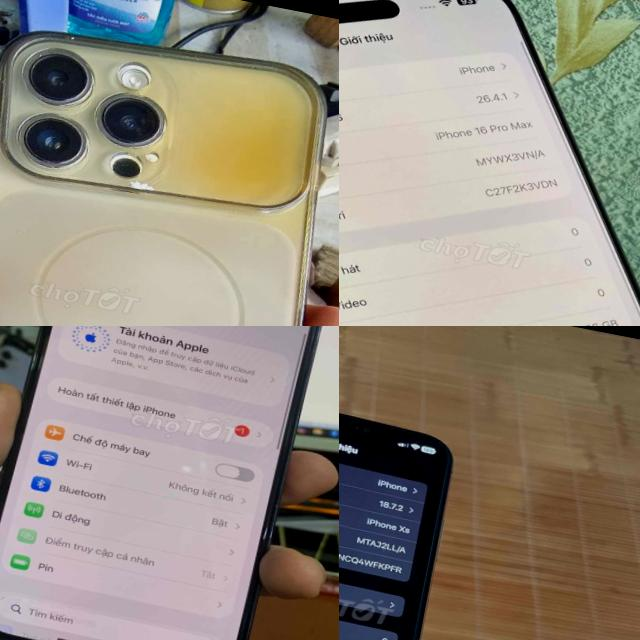gen_14: (0, 8, 339, 326), (0, 326, 339, 640)
gen_16: (339, 0, 640, 326)
gen_x_xs: (339, 373, 471, 640)
